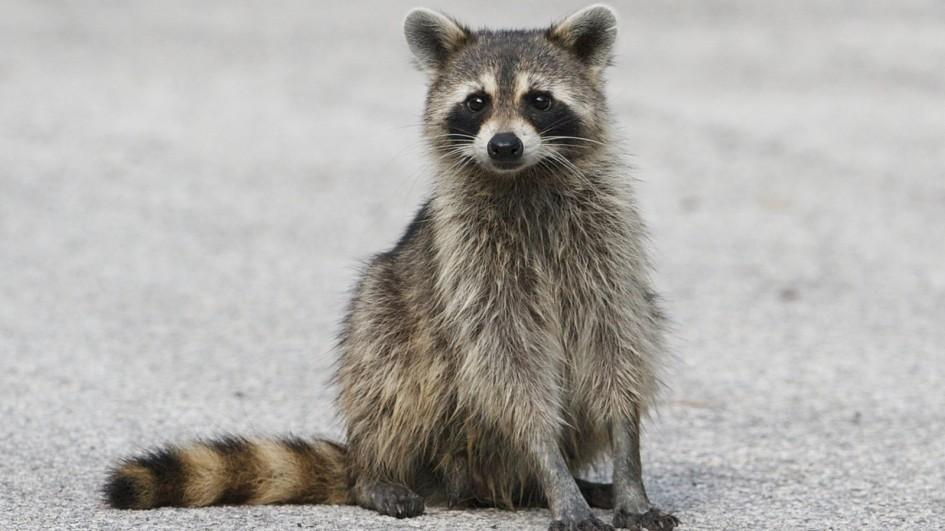raccoon: (103, 6, 733, 531)
